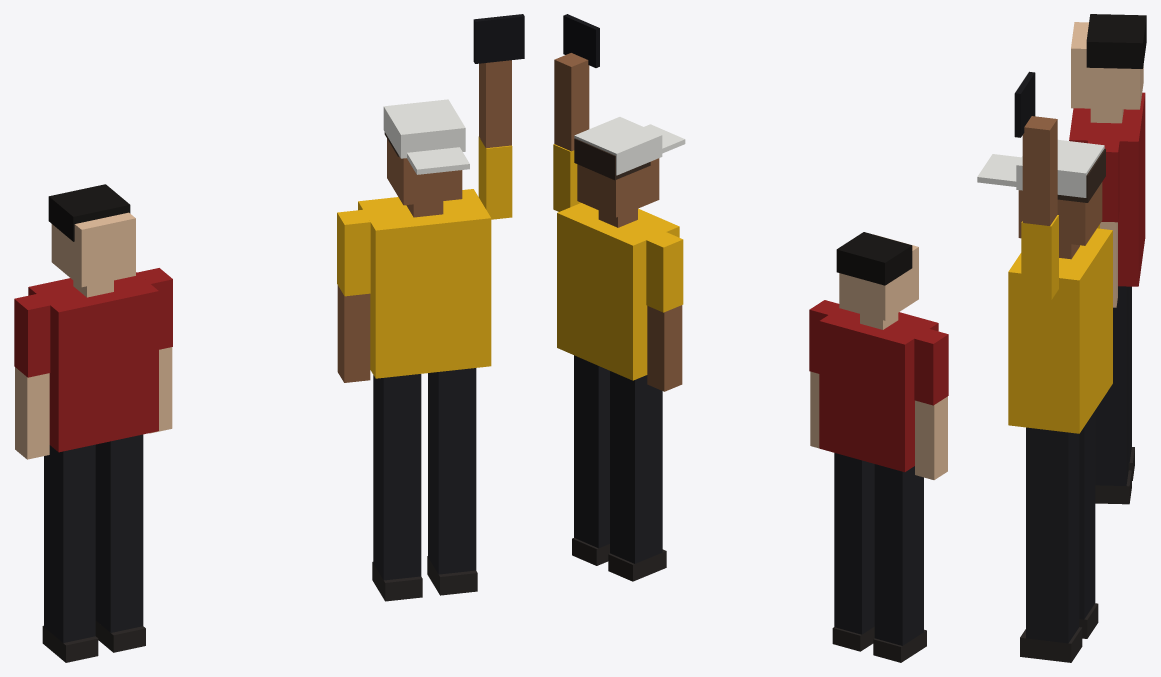
The model's file is crowd_a.dae.
The picture shows the model from 3 angles, left to right: view 1: azimuth 30°, elevation 25°; view 2: azimuth 150°, elevation 25°; view 3: azimuth 270°, elevation 25°; orthographic projection. The views are drawn at different scales.
Visible parts, largest first — view 1: marker; view 2: marker; view 3: marker.
Boxes of the visible parts, x1,y1,x2,y2 form: marker: (14,14,524,662); marker: (553,14,948,662); marker: (977,14,1146,662).
Bounding box in the file's own units: 1.74 × 0.539 × 2.06.
